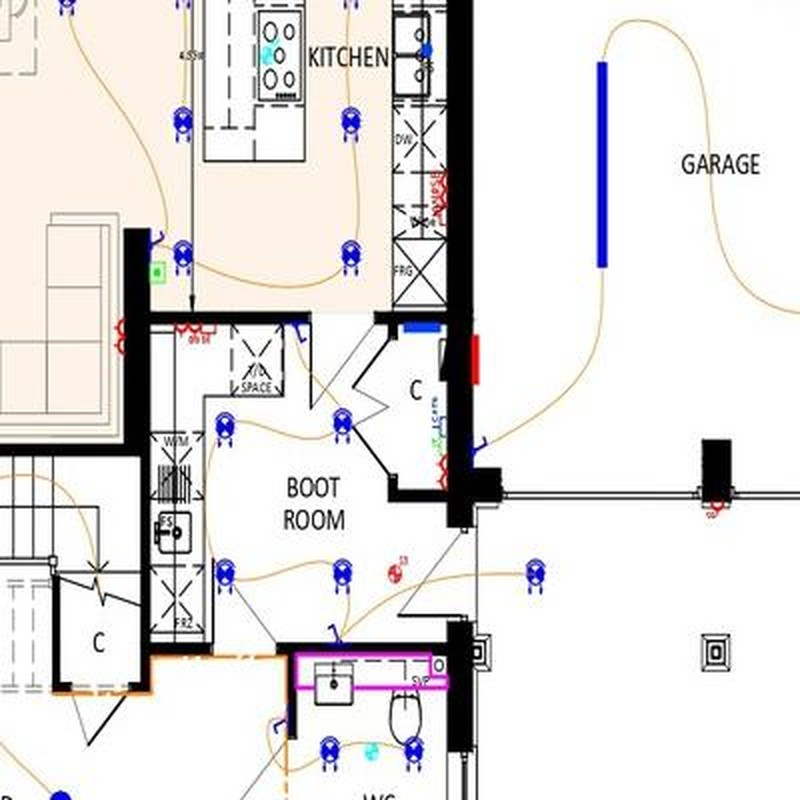Cat 6 Data Socket: (431, 396, 446, 436)
Ceiling Mounted Continuous Extract FanWith Boost Mode Activated By Light Switch: (365, 743, 378, 760)
Ceiling Mounted Continuous Extract FanWith Local Boost Switch: (389, 555, 408, 583)
Consumer Unit: (439, 338, 447, 382)
Double Socket: (113, 318, 125, 355), (436, 455, 448, 488)
Electric Meter Box: (472, 335, 480, 384)
Fused spur: (706, 501, 725, 518)
Light Switch: (289, 324, 308, 343), (326, 624, 343, 642), (473, 436, 488, 455), (151, 231, 166, 248), (273, 717, 287, 735)
Low Energy Downlighter: (173, 106, 194, 143), (172, 240, 193, 277), (405, 736, 425, 773), (332, 408, 353, 443), (215, 559, 236, 594), (525, 559, 546, 594), (341, 106, 361, 142), (215, 412, 235, 448), (332, 559, 352, 595), (341, 240, 361, 275), (320, 737, 340, 771)
Oven Switch: (201, 324, 217, 344)
Recirculating Extractor Fan: (262, 37, 281, 64)
Telephone Socket: (432, 436, 447, 455)
Twin LED Strip Light: (597, 62, 609, 269)
USB Double Socket: (430, 171, 447, 205), (176, 324, 201, 344)
Underfloor Heating Manifold: (404, 322, 441, 332)
Water Entry Position: (421, 44, 433, 56)
